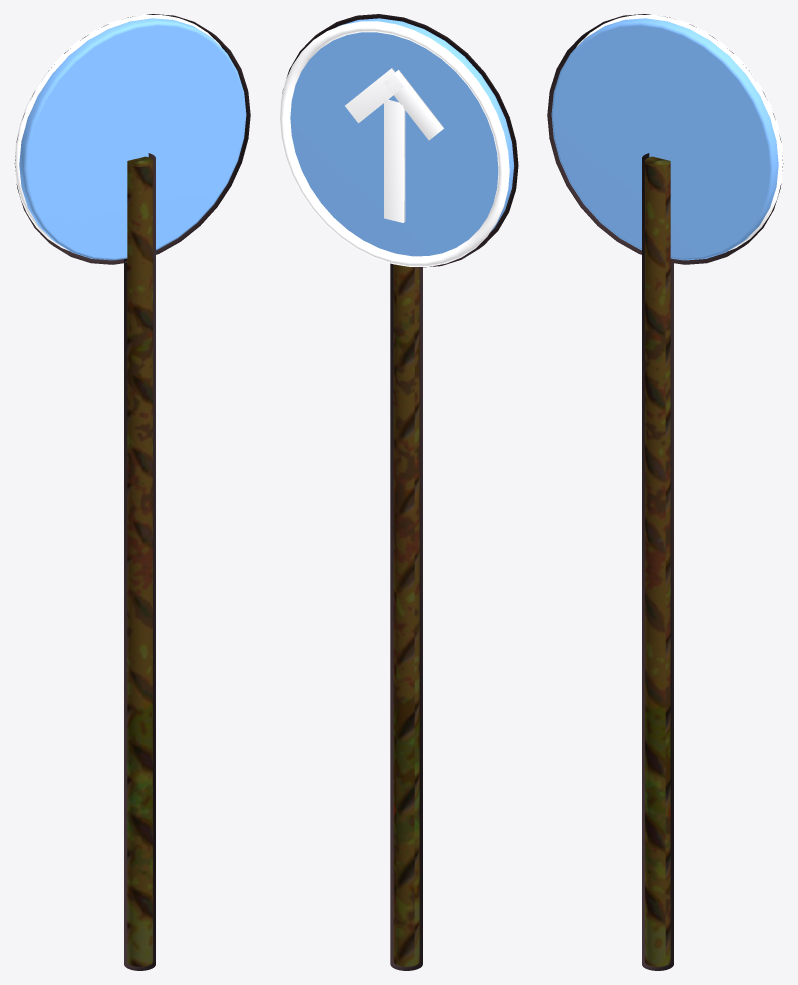
Rendered from cartello_stradale.glb.
3 renders of one model, left to right at view 1: azimuth 30°, elevation 25°; view 2: azimuth 150°, elevation 25°; view 3: azimuth 330°, elevation 25°, orthographic.
Parts seen in each view (by area): view 1: Cylinder.034, Cylinder.033, Torus.006; view 2: Cylinder.034, Cylinder.033, Torus.006, Cube.071, Cube.073, Cube.072; view 3: Cylinder.034, Cylinder.033, Torus.006.
Boxes of the visible parts, x1=… form: Cylinder.034: x1=14, y1=14, x2=250, y2=264; Cylinder.033: x1=124, y1=153, x2=155, y2=970; Torus.006: x1=14, y1=14, x2=221, y2=250; Cylinder.034: x1=282, y1=14, x2=518, y2=267; Cylinder.033: x1=390, y1=263, x2=422, y2=970; Torus.006: x1=279, y1=21, x2=509, y2=266; Cube.071: x1=384, y1=99, x2=405, y2=222; Cube.073: x1=384, y1=70, x2=444, y2=140; Cube.072: x1=345, y1=68, x2=403, y2=123; Cylinder.034: x1=547, y1=14, x2=783, y2=264; Cylinder.033: x1=642, y1=153, x2=673, y2=970; Torus.006: x1=576, y1=14, x2=783, y2=250.
Size of the model in its own units: 0.7235 by 2.82 by 0.1237.
4 materials, 1 textured.
